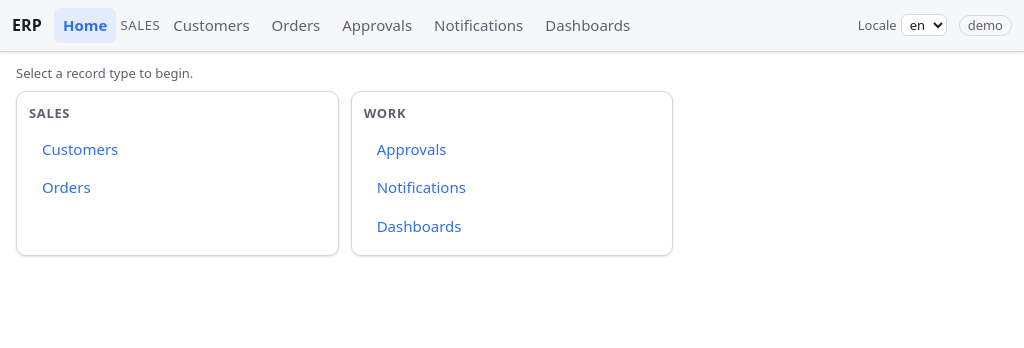
it: runtime hash routing › a committed jump to a malformed escape keeps the route and rewinds the URL
Click the button "Customers" in the row of "ERP". click: coordinates (211, 25)
box: [164,8,259,42]
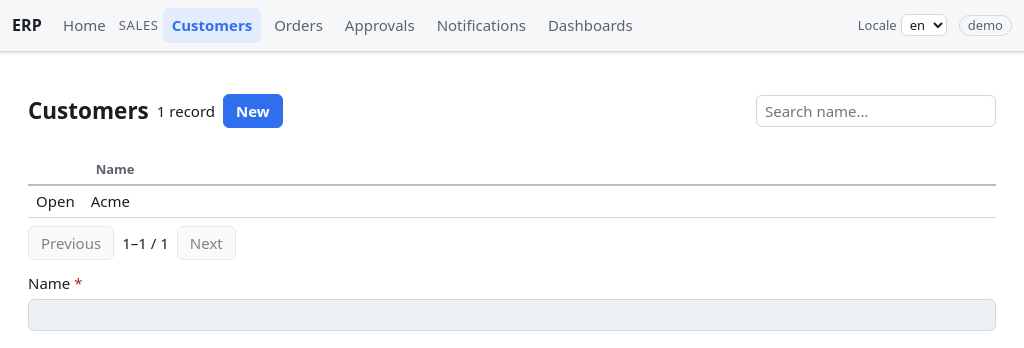
Now the text "1 record" is shown, box [157,100,215,122]
